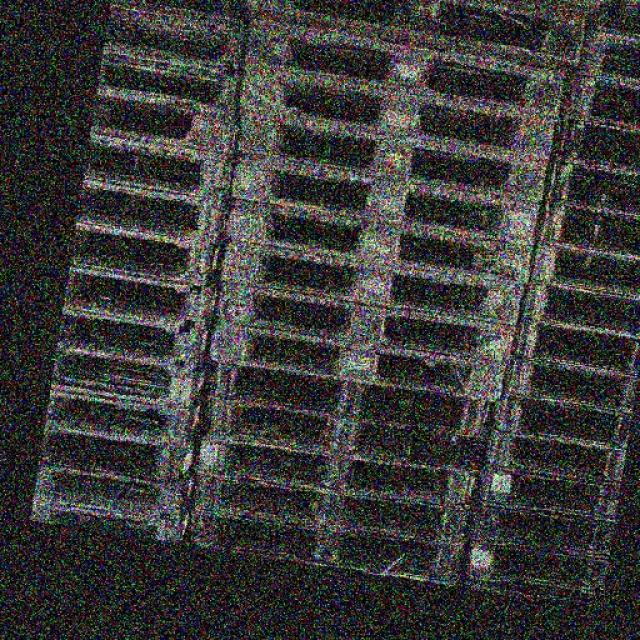igps: (239, 10, 571, 123), (233, 58, 568, 169), (231, 102, 553, 207), (227, 150, 544, 252), (219, 194, 538, 294), (212, 276, 522, 372), (204, 320, 512, 408), (206, 357, 494, 446), (238, 0, 592, 71), (188, 433, 486, 515), (202, 395, 492, 479), (187, 468, 475, 552), (184, 510, 472, 592), (72, 172, 236, 253), (49, 342, 219, 416), (83, 126, 240, 205), (65, 217, 232, 289), (58, 263, 224, 334), (49, 304, 222, 371), (41, 385, 214, 449), (34, 425, 206, 488), (88, 46, 246, 114), (85, 92, 243, 159), (95, 1, 249, 68), (31, 461, 200, 522), (24, 489, 196, 546), (475, 462, 624, 525), (469, 499, 620, 561), (481, 427, 632, 486), (487, 393, 637, 450), (507, 316, 640, 378), (498, 356, 640, 414), (461, 541, 615, 593), (514, 277, 640, 338), (523, 240, 640, 296), (535, 200, 640, 260), (550, 108, 640, 176), (536, 158, 640, 216), (557, 68, 640, 132), (575, 25, 640, 89), (105, 0, 251, 22), (584, 0, 640, 41)
